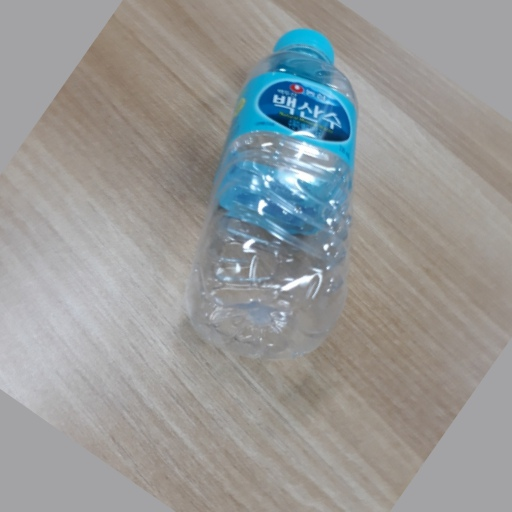Plastic_0: (190, 26, 359, 357)
